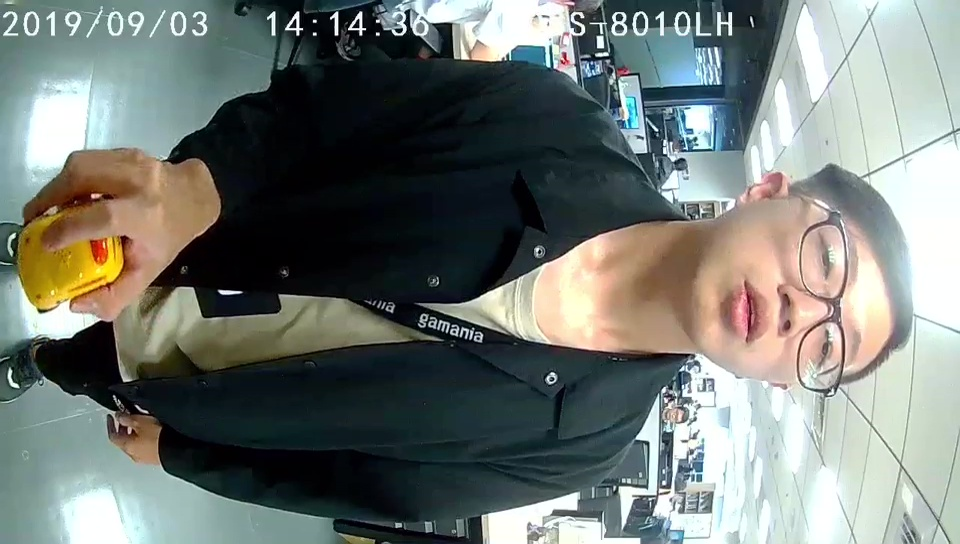car: (17, 203, 120, 309)
